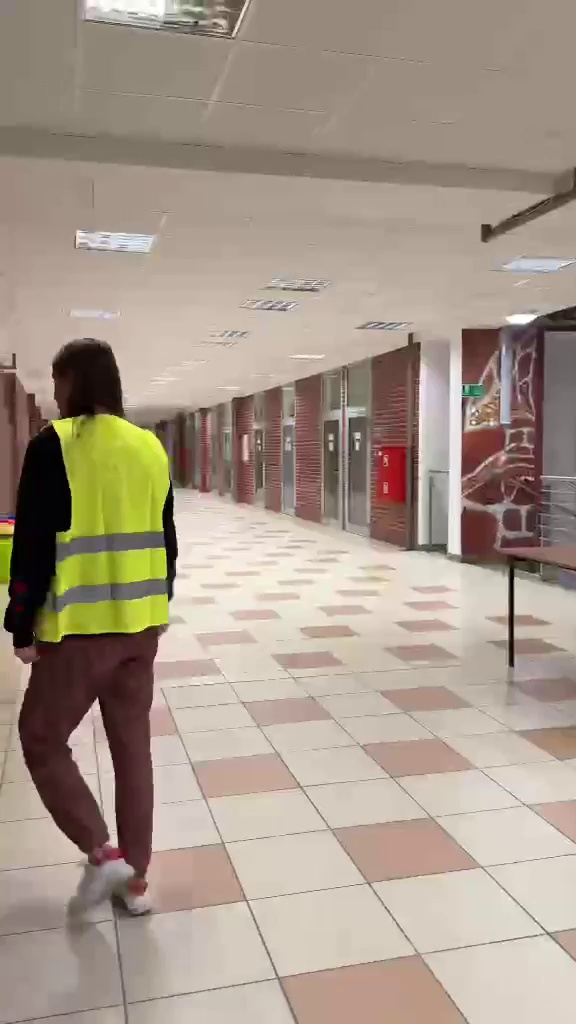vest: (10, 337, 189, 926)
